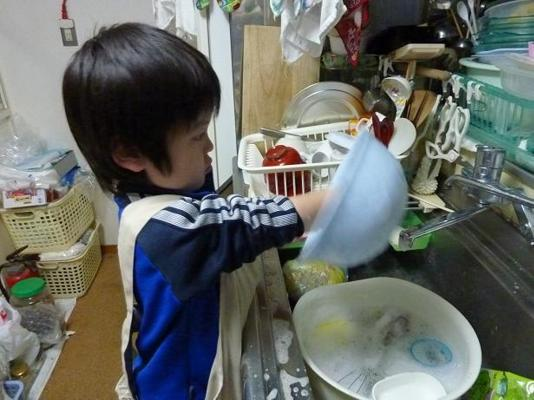person: (63, 23, 328, 400)
